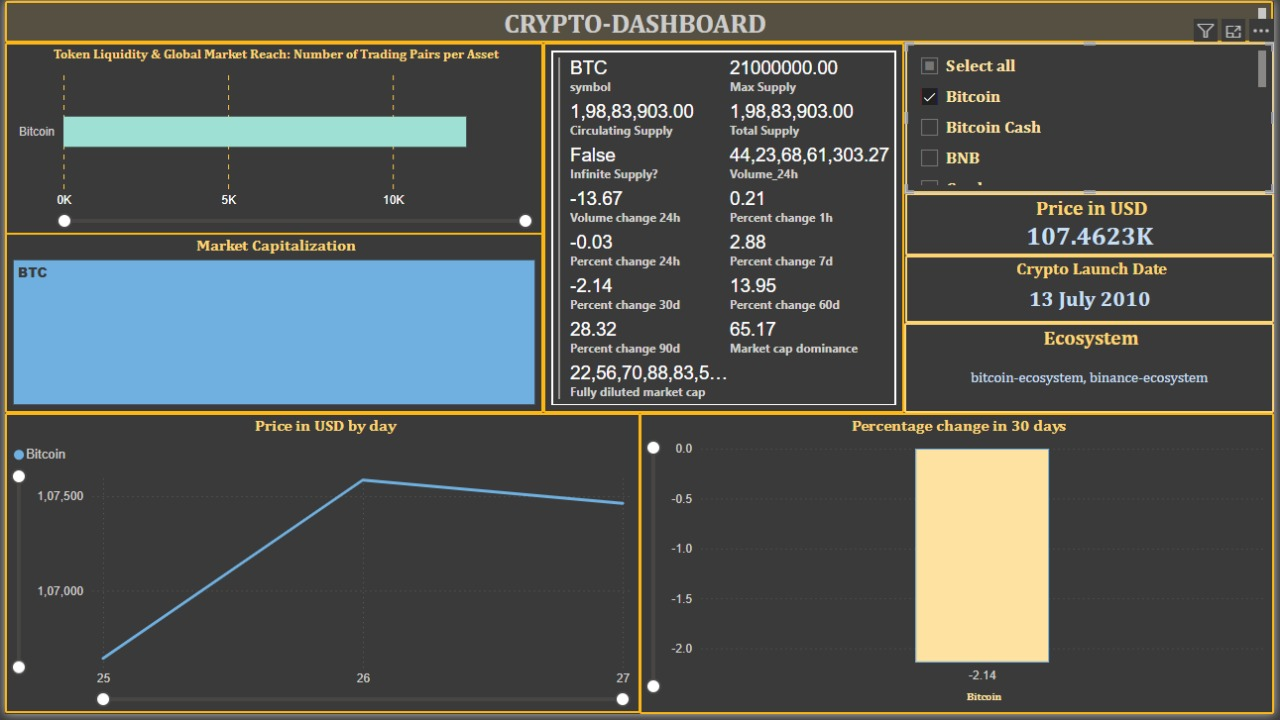

The page's visual inventory and layout, read from the dashboard file:
{"tool":"powerbi","page":{"name":"Page 1","canvas":[1280,720],"ordinal":0},"visuals":[{"type":"barChart","title":"Token Liquidity & Global Market Reach: Number of Trading Pairs per Asset","fields":{"Category":["Cryptop_API (2).name"],"Y":["Avg(Cryptop_API (2).num_market_pairs)"]},"box":[0,42,543,194],"z":0},{"type":"card","title":"Crypto Launch Date","fields":{"Values":["Min(Cryptop_API.date_added)"]},"box":[908,257,372,68],"z":1000},{"type":"treemap","title":"Market Capitalization","fields":{"Group":["Cryptop_API (2).symbol"],"Values":["Avg(Cryptop_API (2).quote.USD.market_cap)"]},"box":[0,234,543,182],"z":2000},{"type":"lineChart","title":"Price in USD  by day","fields":{"Category":["Cryptop_API (2).timestamp.Variation.Date Hierarchy.Day"],"Y":["Avg(Cryptop_API (2).quote.USD.price)"],"Series":["Cryptop_API (2).name"]},"box":[0,416,641,303],"z":3000},{"type":"card","title":"Price in USD","fields":{"Values":["Avg(Cryptop_API (2).quote.USD.price)"]},"box":[908,194,372,63],"z":4000},{"type":"multiRowCard","fields":{"Values":["Cryptop_API (2).symbol","Avg(Cryptop_API (2).max_supply)","Avg(Cryptop_API (2).circulating_supply)","Avg(Cryptop_API (2).total_supply)","Cryptop_API (2).infinite_supply","Avg(Cryptop_API (2).quote.USD.volume_24h)","Avg(Cryptop_API (2).quote.USD.volume_change_24h)","Avg(Cryptop_API (2).quote.USD.percent_change_1h)","Avg(Cryptop_API (2).quote.USD.percent_change_24h)","Avg(Cryptop_API (2).quote.USD.percent_change_7d)","Avg(Cryptop_API (2).quote.USD.percent_change_30d)","Avg(Cryptop_API (2).quote.USD.percent_change_60d)"]},"box":[543,42,364,374],"z":5000},{"type":"columnChart","title":"Percentage change in 30 days","fields":{"Category":["Cryptop_API (2).name"],"Y":["Avg(Cryptop_API (2).quote.USD.percent_change_30d)"]},"box":[640,416,640,304],"z":6000},{"type":"slicer","fields":{"Values":["Cryptop_API.name"]},"box":[908,42,372,152],"z":7000},{"type":"card","title":"Ecosystem","fields":{"Values":["Min(Cryptop_API.Ecosystem)"]},"box":[907,325,373,91],"z":8000},{"type":"textbox","box":[0,0,1279,42],"z":9000}]}

Visuals, with their boxes in screenshot pixels (x1, y1, x2, y2):
"Token Liquidity & Global Market Reach: Number of Trading Pairs per Asset" barChart: crop(3, 41, 539, 233)
"Crypto Launch Date" card: crop(899, 253, 1266, 321)
"Market Capitalization" treemap: crop(3, 231, 539, 410)
"Price in USD  by day" lineChart: crop(3, 410, 635, 709)
"Price in USD" card: crop(899, 191, 1266, 253)
multiRowCard - Cryptop_API (2).symbol x Avg(Cryptop_API (2).max_supply): crop(539, 41, 898, 410)
"Percentage change in 30 days" columnChart: crop(634, 410, 1266, 710)
slicer - Cryptop_API.name: crop(899, 41, 1266, 191)
"Ecosystem" card: crop(898, 321, 1266, 410)
textbox: crop(3, 0, 1265, 41)
